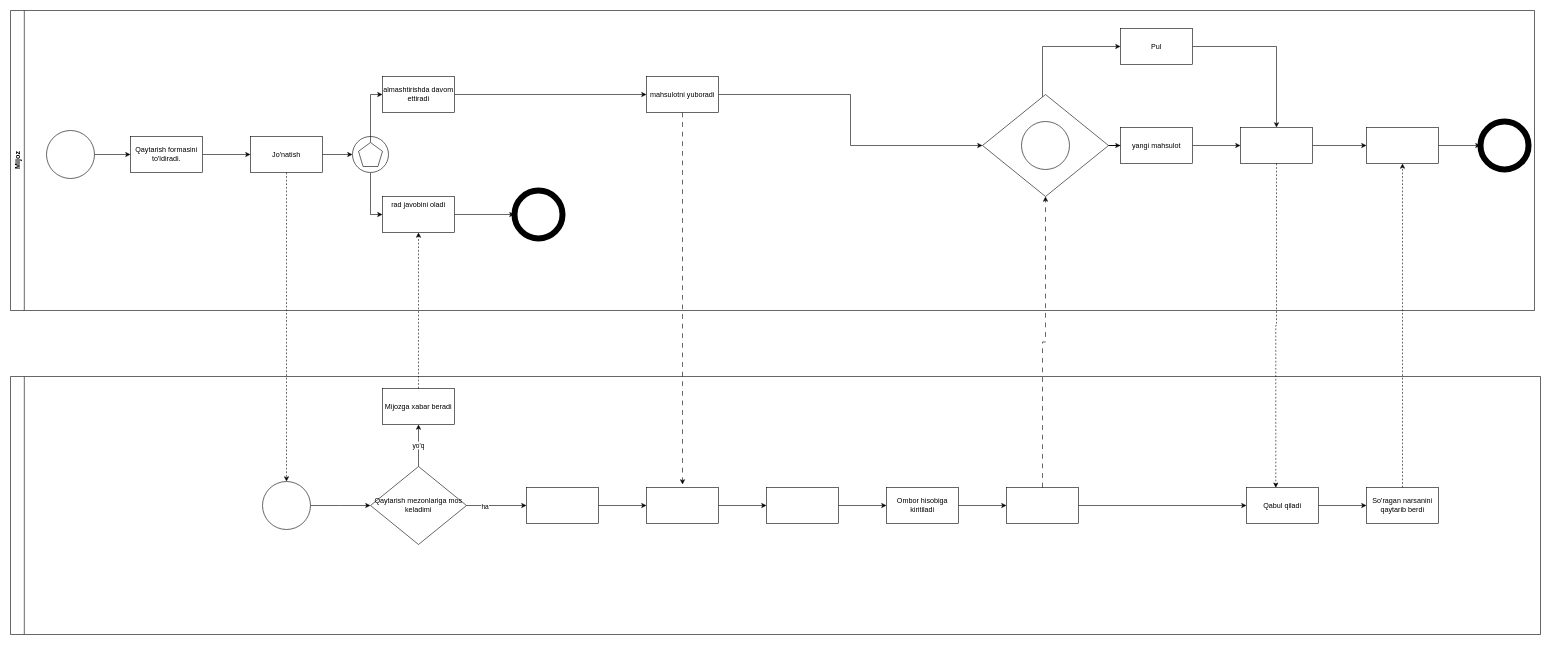
Some shapes in this 1551 by 645 pixel diagram are drawn without their labels. The shapes that lost their labels are listed below. From the top down, each one's box as (x1, y1, x2, y2) in pixels, then its label:
(1240, 127, 1312, 164): tanlagan mahsulotini aytadi
(1366, 127, 1438, 164): Qabul qilib oladi
(526, 487, 598, 524): Qaytarish amalga oshiriladi
(646, 487, 718, 524): Mahsulotni qabul qiladi
(10, 376, 1540, 634): Mijoz xizmati agenti
(766, 487, 838, 524): Mahsulot holati tekshiriladi
(1006, 487, 1078, 524): Mijozga puli yoki yangi mahsulot kerkaligini biladi
